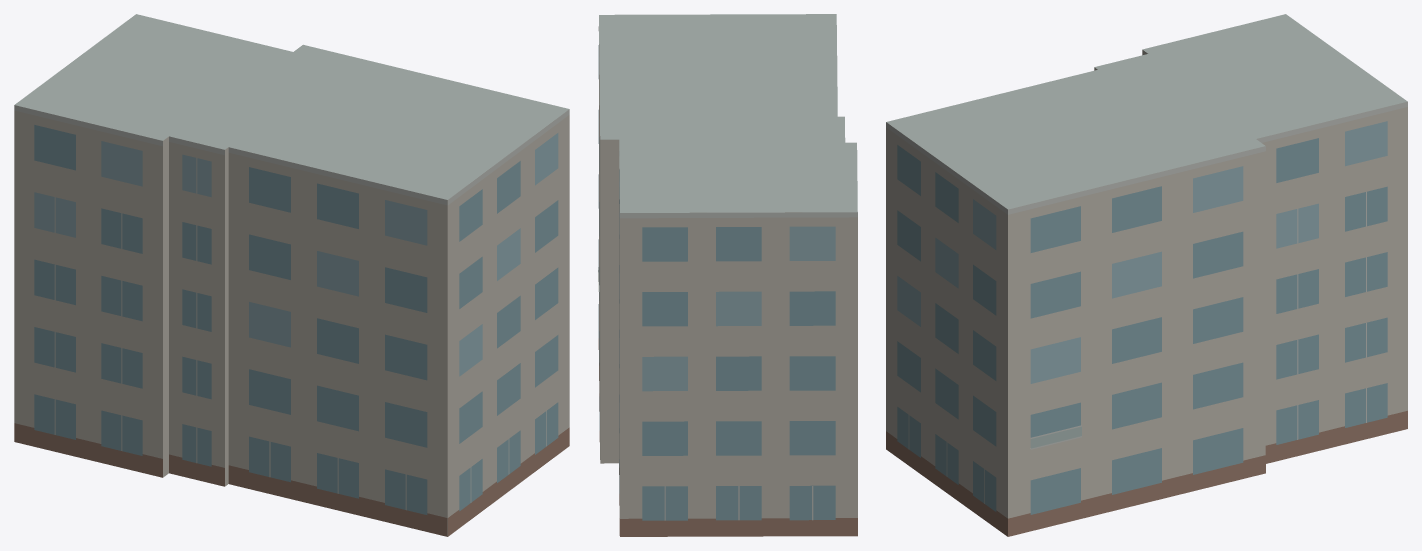
The model's file is survey-upis-33034502.glb.
3 renders of one model, left to right at view 1: azimuth 30°, elevation 25°; view 2: azimuth 150°, elevation 25°; view 3: azimuth 270°, elevation 25°, orthographic. The views are drawn at different scales.
Visible parts, largest first — view 1: survey-upis-33034502.tmp; view 2: survey-upis-33034502.tmp; view 3: survey-upis-33034502.tmp.
Part boxes in pixels (<box>): survey-upis-33034502.tmp: <box>14,14,569,536</box>; survey-upis-33034502.tmp: <box>598,14,857,536</box>; survey-upis-33034502.tmp: <box>886,14,1407,536</box>.
Bounding box in the file's own units: 19.29 × 15.05 × 21.75.
